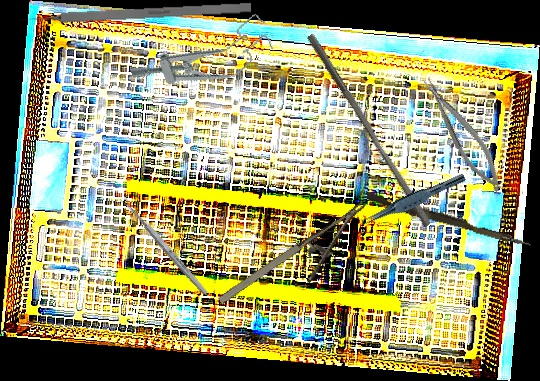Hook Surgical: (18, 1, 252, 26)
Needle Holder: (215, 199, 386, 329), (417, 69, 510, 199)
Pusher: (299, 33, 438, 228), (364, 191, 534, 249)
Speculum: (126, 11, 279, 108)
Surgical Spoon: (119, 194, 209, 297)
Tissue Forceps: (359, 167, 467, 232)
